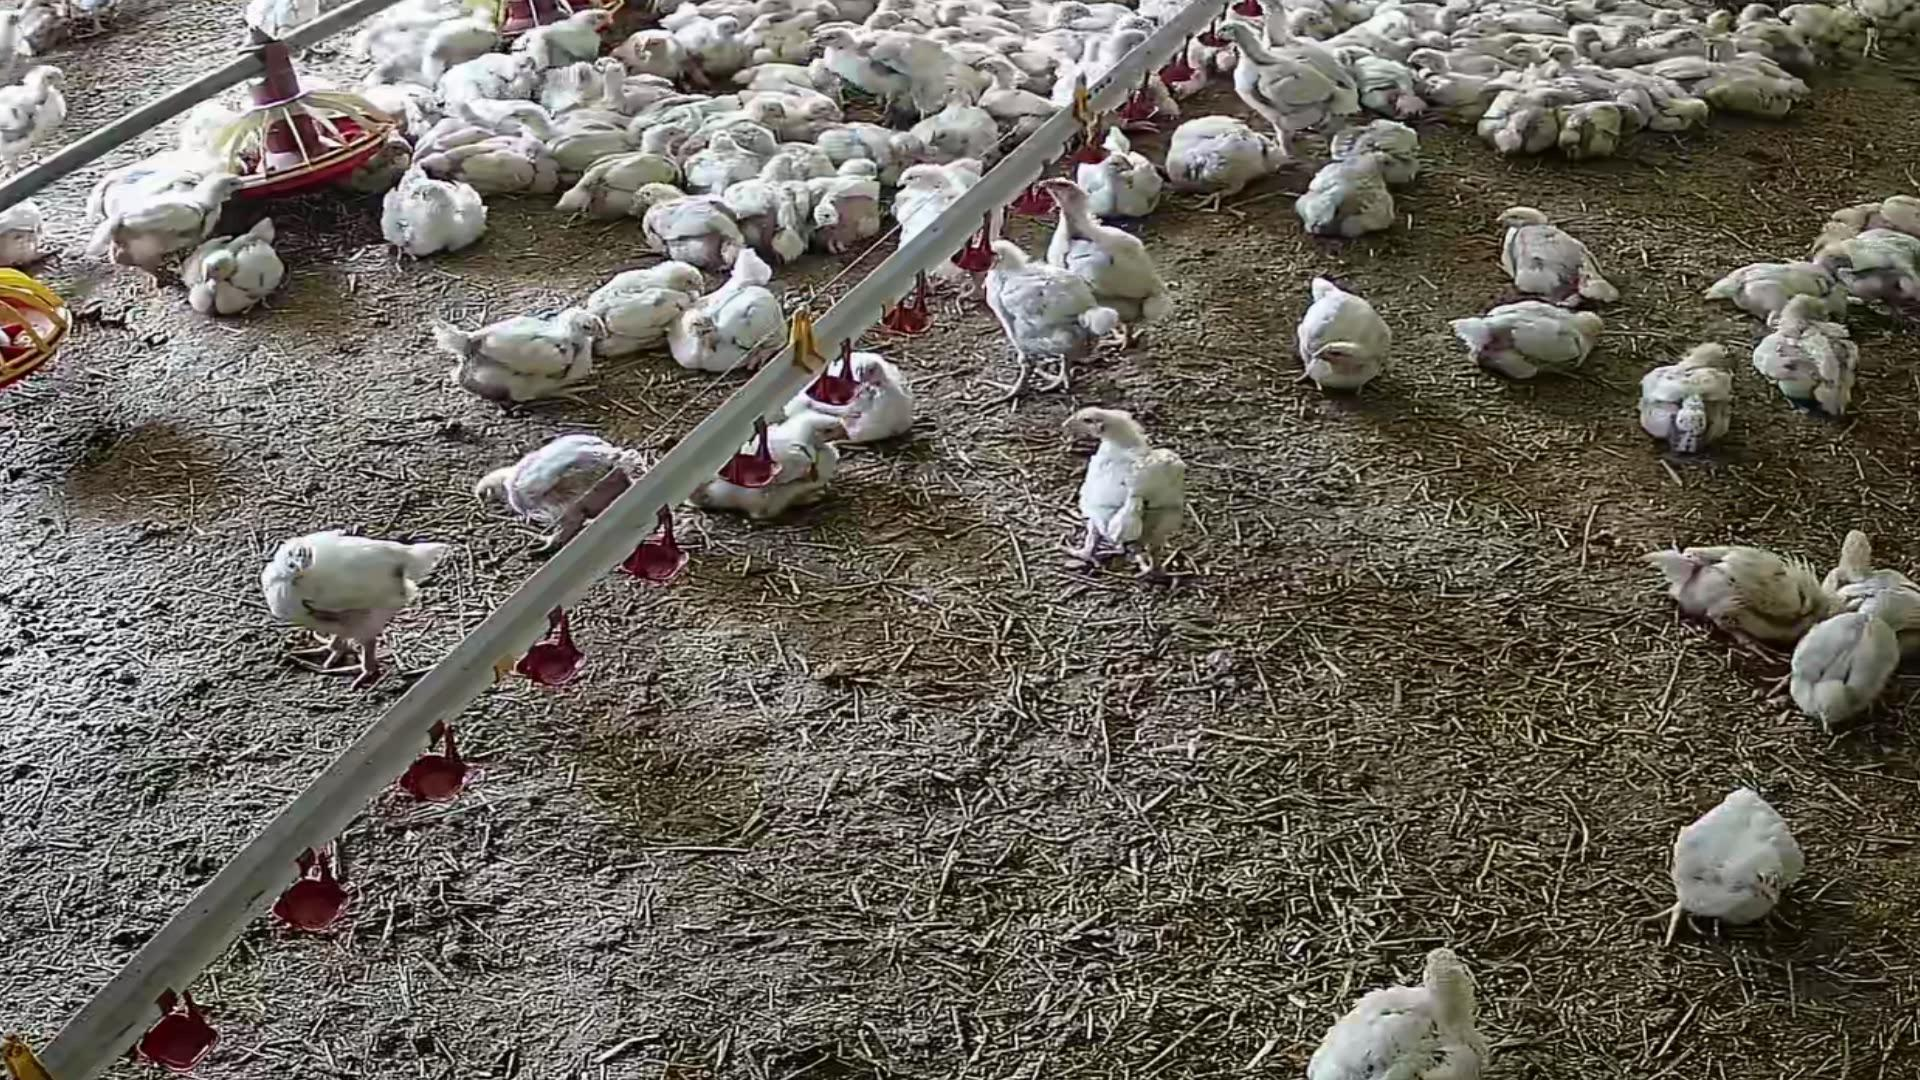poussin: (261, 530, 448, 687), (1648, 779, 1809, 948), (971, 243, 1124, 413), (1026, 178, 1171, 352), (1308, 948, 1486, 1080), (1065, 409, 1189, 578), (476, 433, 650, 550), (1647, 535, 1818, 647), (436, 302, 603, 414), (95, 185, 248, 287), (1222, 16, 1331, 161), (1788, 575, 1895, 719), (688, 419, 861, 505), (1244, 0, 1356, 127), (778, 349, 916, 440), (1495, 203, 1617, 306), (1159, 116, 1284, 214), (687, 258, 785, 377), (1451, 309, 1626, 373), (1300, 280, 1395, 398), (1764, 299, 1855, 422), (1826, 517, 1920, 636), (583, 260, 702, 349), (1801, 229, 1919, 315), (1627, 345, 1731, 442), (91, 137, 232, 207), (186, 219, 278, 322), (382, 170, 484, 262), (641, 186, 744, 277), (568, 131, 680, 208), (870, 33, 984, 109), (1291, 156, 1394, 239), (808, 17, 902, 108), (0, 67, 84, 162), (1704, 253, 1858, 301), (1080, 123, 1155, 219), (553, 117, 654, 181), (0, 166, 65, 265), (426, 142, 556, 191), (1414, 49, 1499, 121), (812, 179, 891, 256), (518, 7, 615, 69), (1340, 51, 1433, 113), (980, 58, 1055, 131), (1338, 115, 1423, 178), (1700, 66, 1809, 112), (429, 12, 509, 73), (235, 0, 326, 53), (505, 103, 629, 141), (744, 116, 835, 167), (720, 156, 804, 211), (818, 127, 922, 171), (901, 164, 948, 260), (683, 128, 767, 182), (909, 111, 1000, 161), (782, 161, 889, 202), (618, 25, 684, 91), (343, 132, 411, 194), (1627, 79, 1704, 135), (440, 58, 527, 105), (735, 55, 844, 92), (673, 15, 744, 70), (1782, 1, 1855, 54), (601, 58, 666, 116), (1826, 198, 1920, 237), (1564, 99, 1627, 157), (1485, 108, 1560, 157), (1853, 0, 1909, 61), (1097, 17, 1146, 71), (687, 100, 786, 127), (1553, 46, 1600, 87), (1688, 9, 1741, 44), (1033, 7, 1093, 34), (0, 8, 26, 69), (1509, 44, 1549, 79), (860, 5, 906, 36), (988, 37, 1035, 63), (1730, 5, 1775, 33), (749, 0, 804, 21), (1611, 21, 1644, 53), (1429, 8, 1465, 37), (1654, 7, 1684, 33), (1576, 24, 1604, 47)
